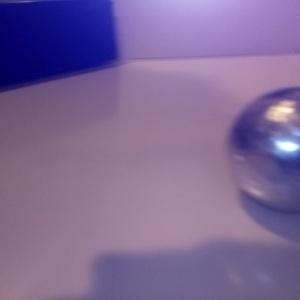alive_ball: (226, 87, 300, 216)
